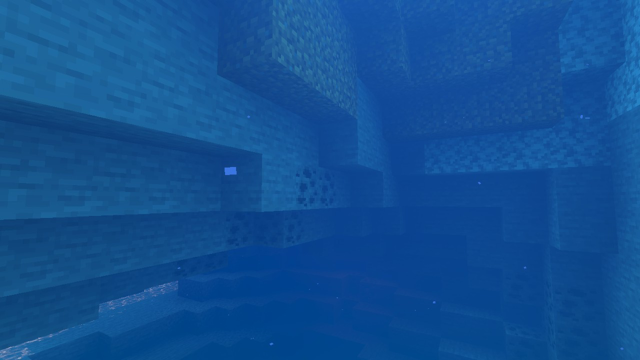coal: (224, 165, 341, 250), (502, 269, 602, 360), (172, 249, 230, 278)
